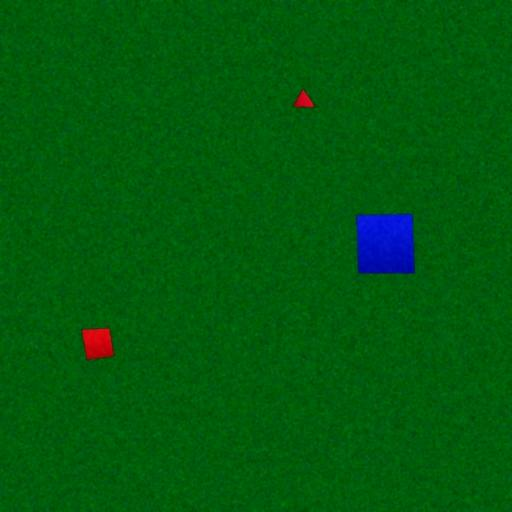BLUE_SQUARE: (356, 213, 416, 274)
RED_SQUARE: (81, 327, 115, 361)
